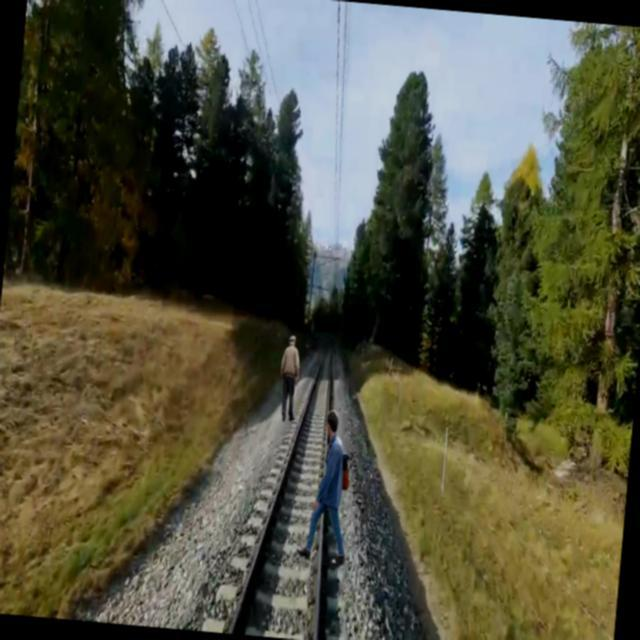danger: (287, 395, 363, 572), (275, 320, 309, 430)
rail: (182, 345, 364, 640)
